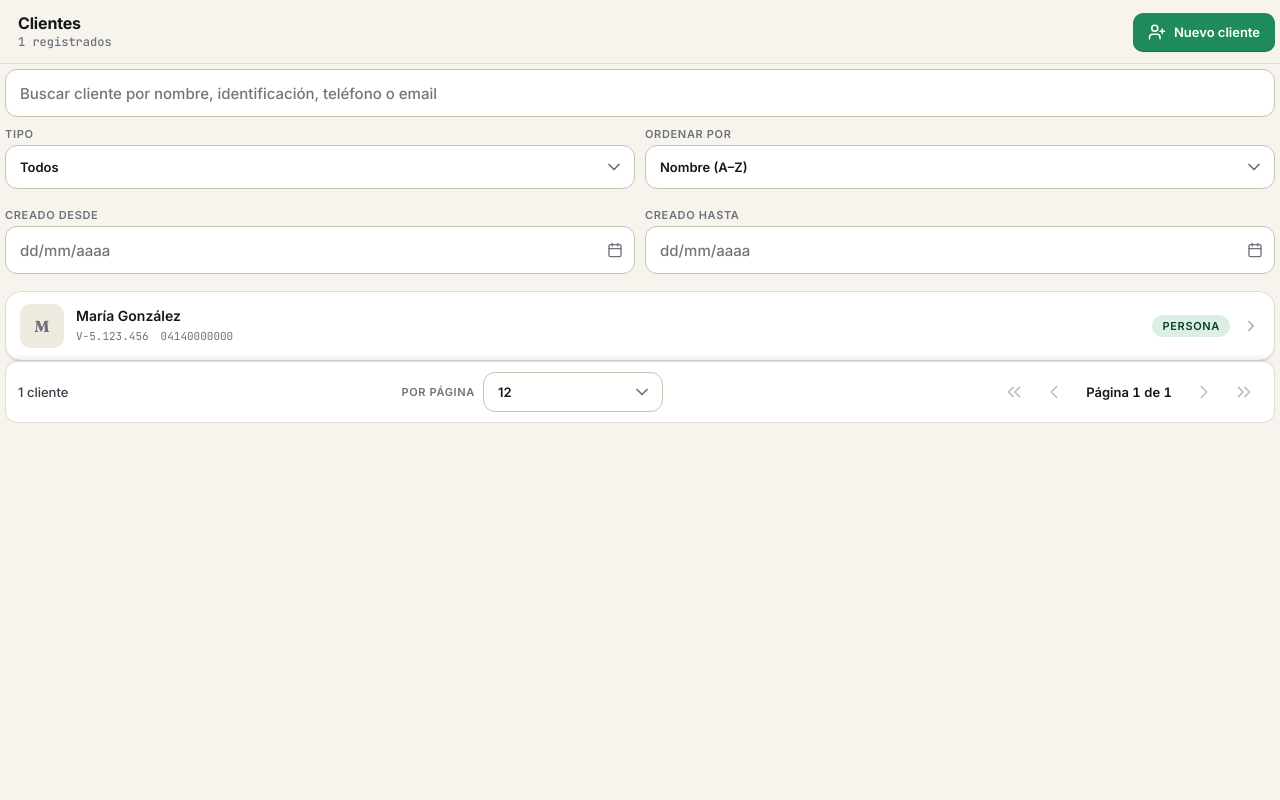
Clientes — offline write-blocking (FEATURES §18) › online: the client detail enables editar / eliminar (no offline notice)
Click the text "María González": point(42, 326) [6,292,1274,360]
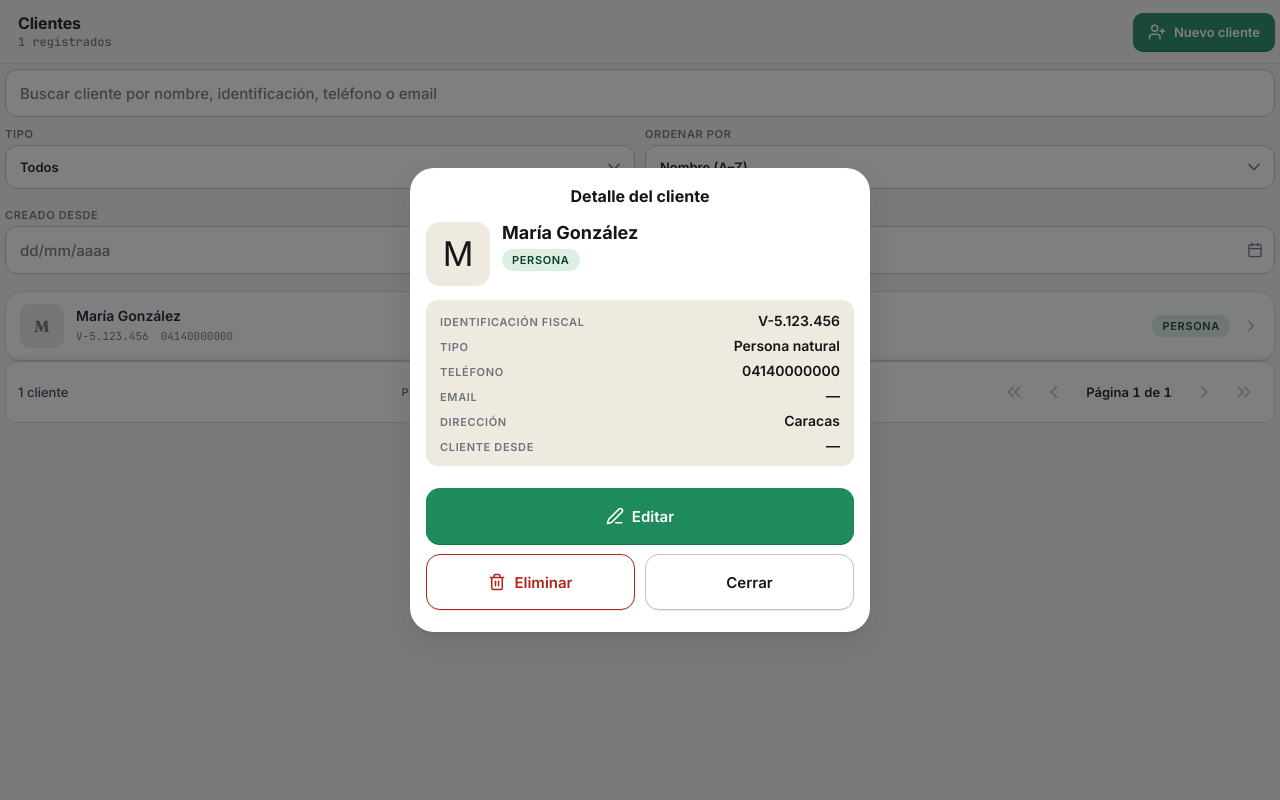
expect the button "Editar" is enabled: met, box [426,488,854,544]
expect the button "Eliminar" is enabled: met, box [426,554,635,610]
